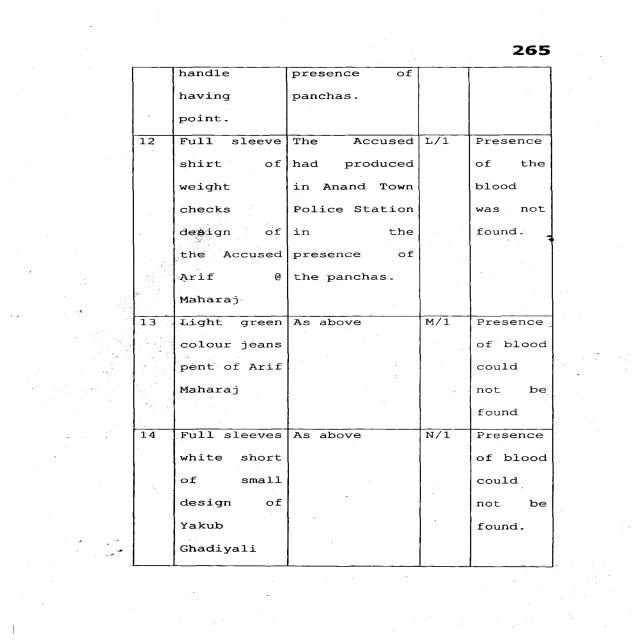page-number: (426, 0, 638, 60)
